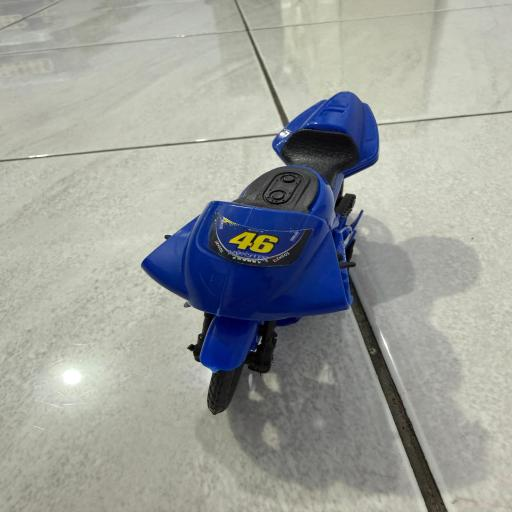motor-biru: (134, 88, 384, 416)
